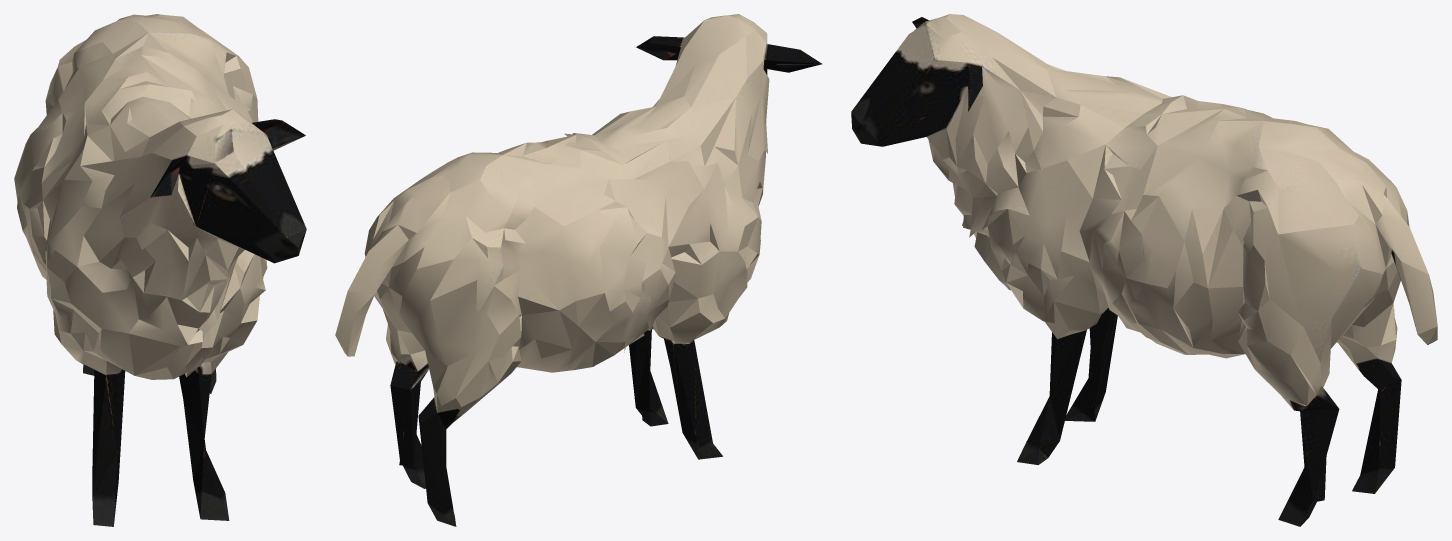
Rendered from world-sheep.glb.
3 views of the same model, side by side, from view 1: azimuth 30°, elevation 25°; view 2: azimuth 150°, elevation 25°; view 3: azimuth 270°, elevation 25° (orthographic). The views are drawn at different scales.
Bounding box in the file's own units: 1.08 × 1.51 × 1.88.
Materials: 1 (1 with a texture image).
